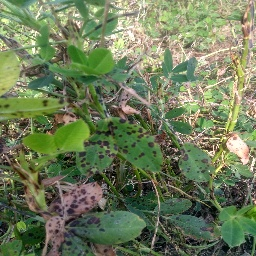GroundNut_Leaf: (93, 117, 164, 171), (67, 213, 146, 241), (1, 98, 68, 119), (52, 118, 90, 153), (60, 183, 101, 213), (179, 144, 211, 182), (222, 209, 250, 246), (1, 52, 20, 96), (21, 132, 51, 158), (154, 197, 192, 213), (90, 48, 114, 73), (39, 26, 54, 60), (71, 45, 89, 73), (161, 51, 173, 76), (186, 58, 197, 79), (170, 121, 191, 130)
